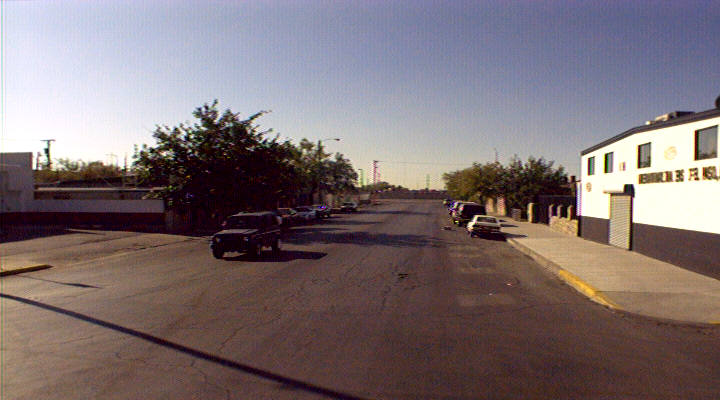Ramp: (583, 286, 720, 330)
